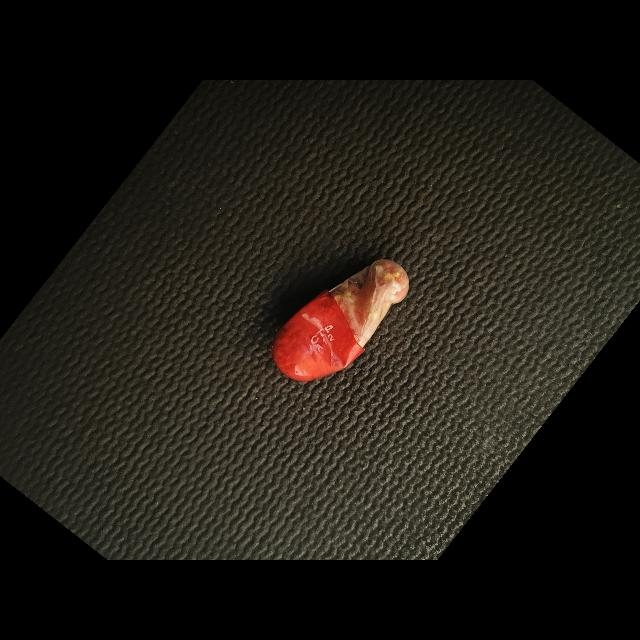Defective Capsule: (273, 260, 409, 381)
